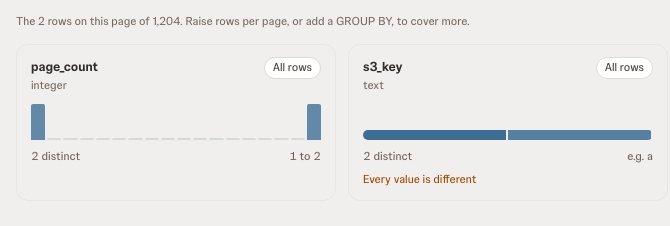
Test: no button without a table or bigger result; errors stay on their card
Click the button "All rows" in the row of "s3_key" at x=624, y=68, box x1=596 y1=57 x2=653 y2=79
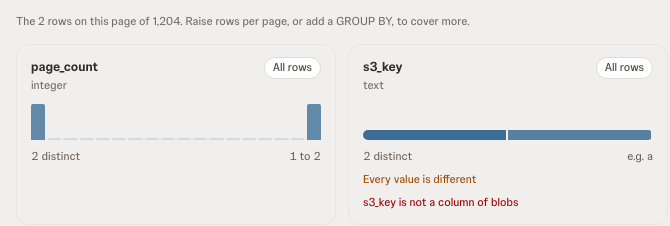
Expected: the text "not a column" is not shown
Now the element that starts with "s3_key" shows "s3_key is not a column of blobs", box x1=363 y1=195 x2=518 y2=209
